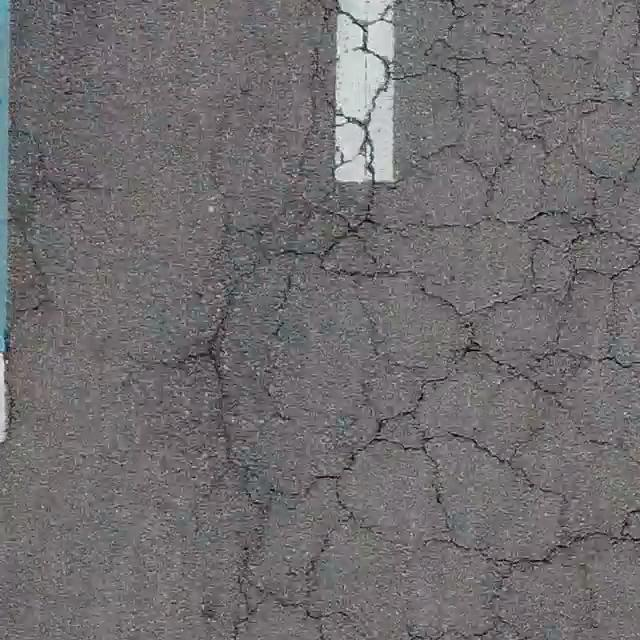PIEL DE COCODRILO: (189, 0, 639, 638), (0, 112, 68, 365)
